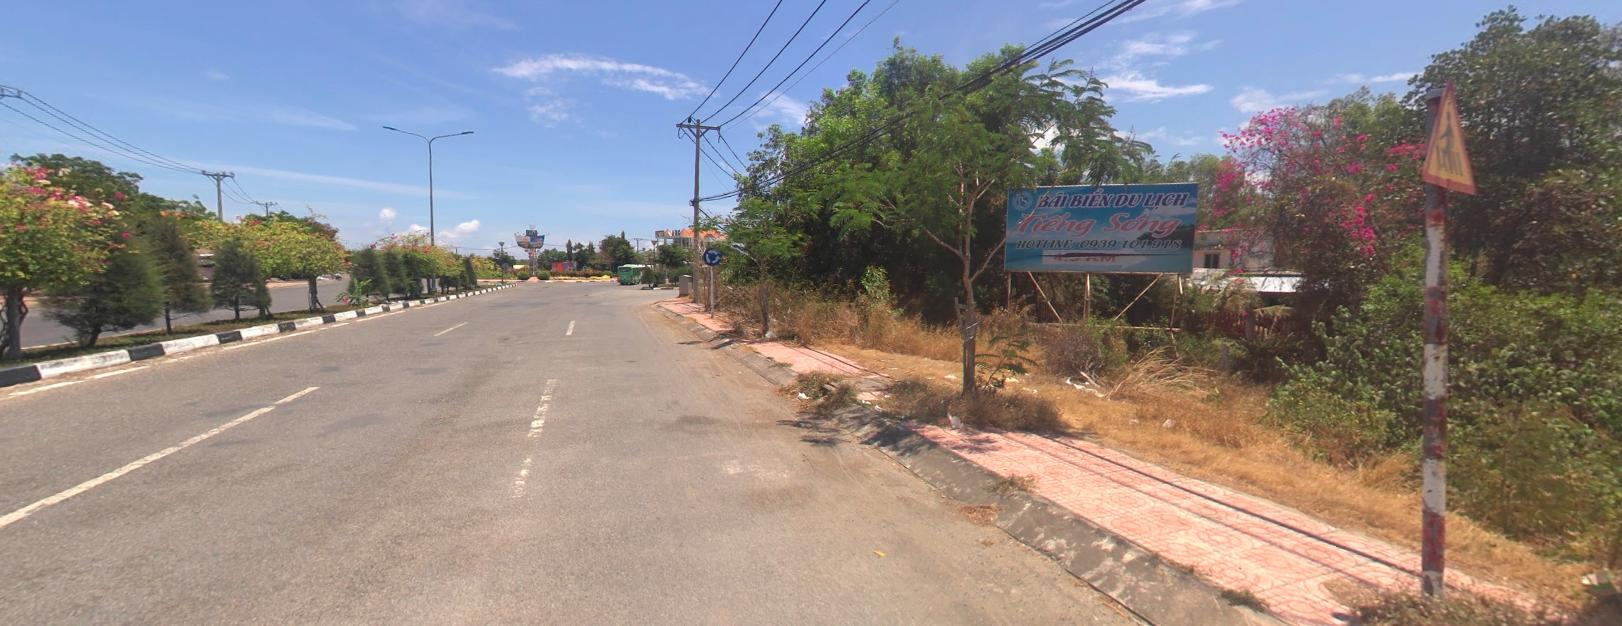Hieu lenh: (702, 244, 722, 263)
